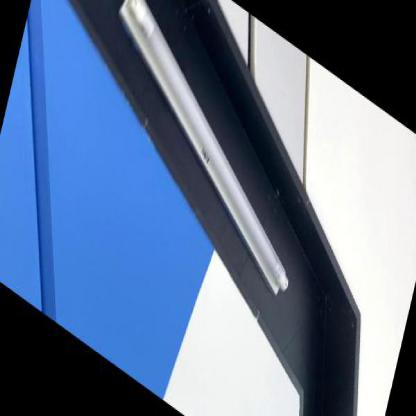light_off: (80, 0, 329, 309), (278, 396, 336, 415)
